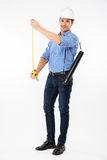helmet: (58, 7, 80, 24)
